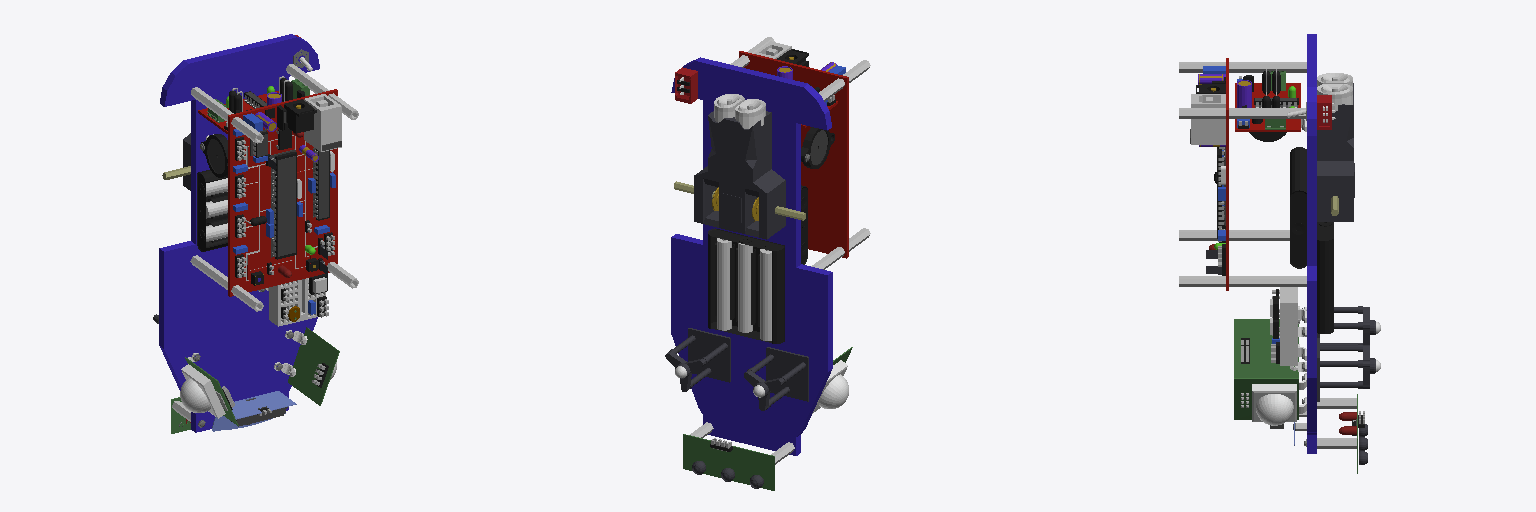
File: robot_sans_roue.obj
3 renders of one model, left to right at view 1: azimuth 30°, elevation 25°; view 2: azimuth 150°, elevation 25°; view 3: azimuth 270°, elevation 25°, orthographic.
Visible parts, largest first — view 1: Plane.003, Plane.011_Plane.004, Plane.021_Plane.009, Sphere.022_Sphere.008, Sphere.021_Sphere.008, Cube.002_Cube.005, Plane.053_Plane.025, Plane.010_Plane.001, Circle.078_Circle.035, Circle.047_Circle.021, Plane.022_Plane.011, Cube.003_Cube.006; view 2: Plane.003, Plane.054_Plane.026, Plane.011_Plane.004, Plane.001, Plane.064_Plane.029, Plane.005_Plane.003, Plane.006_Plane.003, Plane.002, Plane.003_Plane.002, Sphere.021_Sphere.008, Plane.004_Plane.002, Circle.047_Circle.021 (+3 smaller); view 3: Plane.003, Plane.054_Plane.026, Sphere.022_Sphere.008, Sphere.021_Sphere.008, Plane.010_Plane.001, Plane.001, Plane.053_Plane.025, Cube.002_Cube.005, Plane.043_Plane.020, Circle.040_Circle.017, Circle.042_Circle.017, Circle.039_Circle.017 (+4 smaller).
Boxes of the visible parts, <box> form: Plane.003: <box>159,34,319,432</box>; Plane.011_Plane.004: <box>228,89,337,296</box>; Plane.021_Plane.009: <box>275,152,296,259</box>; Sphere.022_Sphere.008: <box>288,327,339,405</box>; Sphere.021_Sphere.008: <box>180,357,238,425</box>; Cube.002_Cube.005: <box>304,94,341,151</box>; Plane.053_Plane.025: <box>269,278,325,326</box>; Plane.010_Plane.001: <box>197,170,227,251</box>; Circle.078_Circle.035: <box>212,391,296,431</box>; Circle.047_Circle.021: <box>201,134,227,177</box>; Plane.022_Plane.011: <box>316,149,329,220</box>; Cube.003_Cube.006: <box>284,99,316,133</box>; Plane.003: <box>671,57,832,455</box>; Plane.054_Plane.026: <box>694,111,785,239</box>; Plane.011_Plane.004: <box>739,51,848,258</box>; Plane.001: <box>708,228,784,343</box>; Plane.064_Plane.029: <box>683,434,774,490</box>; Plane.005_Plane.003: <box>688,328,730,382</box>; Plane.006_Plane.003: <box>766,347,808,401</box>; Plane.002: <box>717,238,731,330</box>; Plane.003_Plane.002: <box>738,243,752,332</box>; Sphere.021_Sphere.008: <box>812,347,852,413</box>; Plane.004_Plane.002: <box>760,249,771,340</box>; Circle.047_Circle.021: <box>801,127,834,168</box>; Plane.003: <box>1307,34,1316,453</box>; Plane.054_Plane.026: <box>1317,83,1354,221</box>; Sphere.022_Sphere.008: <box>1234,378,1298,425</box>; Sphere.021_Sphere.008: <box>1234,319,1298,377</box>; Plane.010_Plane.001: <box>1290,147,1306,268</box>; Plane.001: <box>1317,222,1333,333</box>; Plane.053_Plane.025: <box>1280,287,1297,365</box>; Cube.002_Cube.005: <box>1190,94,1225,144</box>; Plane.043_Plane.020: <box>1235,83,1300,131</box>; Circle.040_Circle.017: <box>1229,276,1306,286</box>; Circle.042_Circle.017: <box>1229,62,1306,72</box>; Circle.039_Circle.017: <box>1229,108,1305,118</box>.
Size of the model in its own units: 9.43 by 22.56 by 10.59.